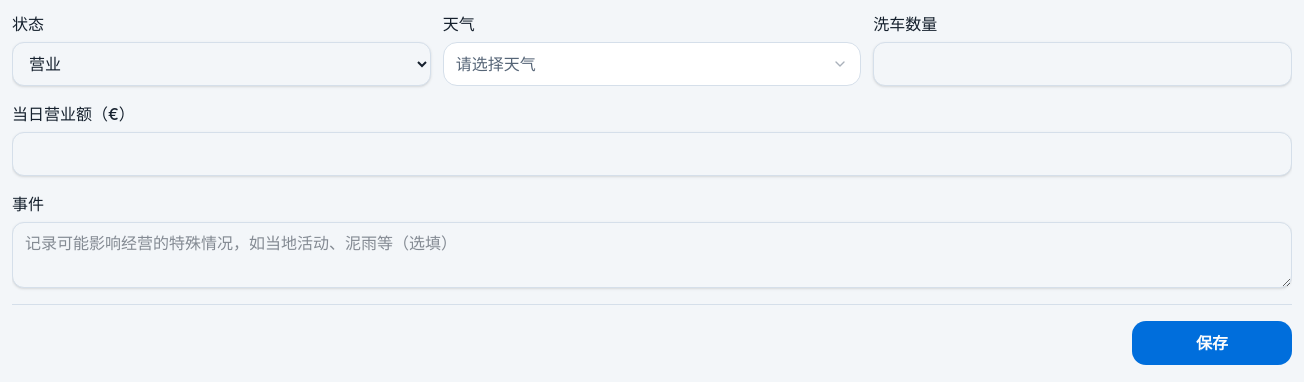
LedgerForm › 新建总额记账默认留空，并在保存时将空数值补为零
The width and height of the screenshot is (1304, 382).
Check: the field labelled "当日营业额" is empty, box [12,132,1292,176]
Check: the field labelled "洗车数量" is empty, box [873,42,1292,86]
What coordinates should you click on to do the following:
click the button "保存"
I would click on:
 (1212, 343)
Its box is [1132,321,1292,365].
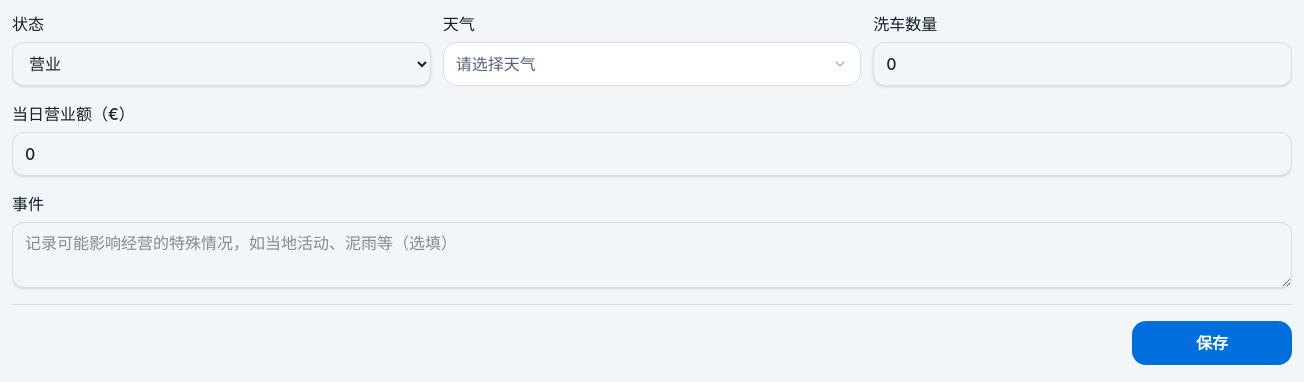
Check: the field labelled "当日营业额" holds "0", box [12,132,1292,176]
Check: the field labelled "洗车数量" holds "0", box [873,42,1292,86]
